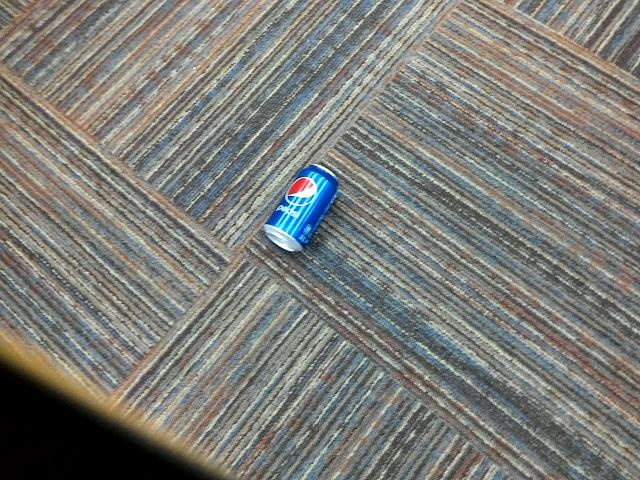can: (264, 156, 361, 262)
